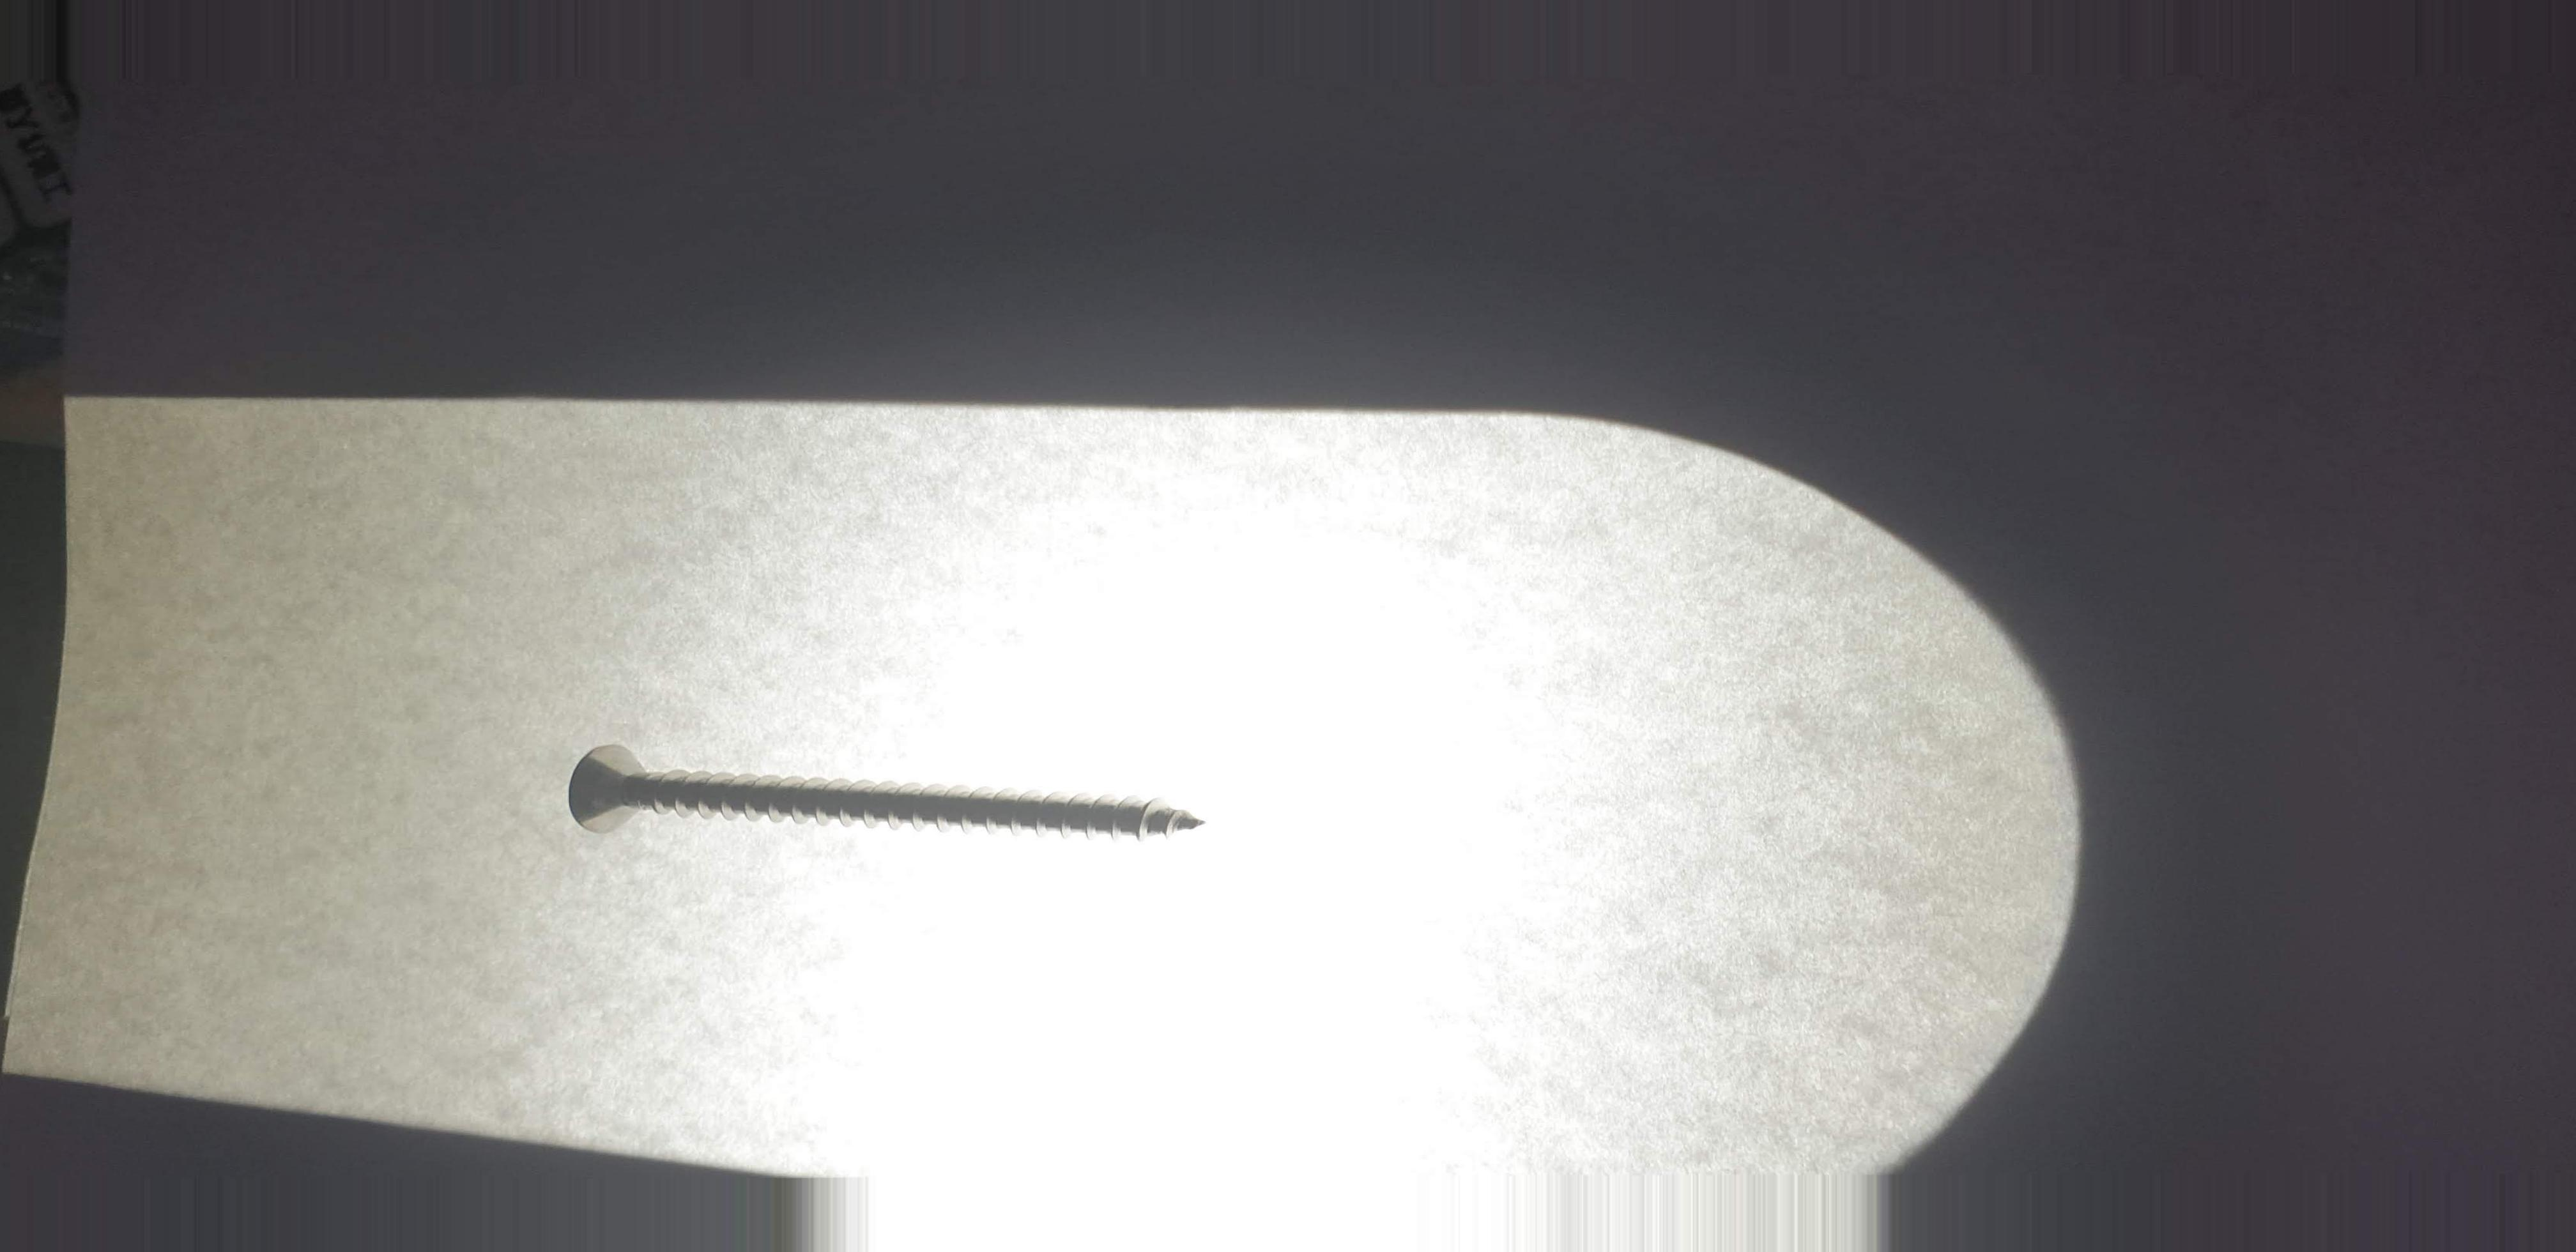S001: (496, 698, 1295, 909)
